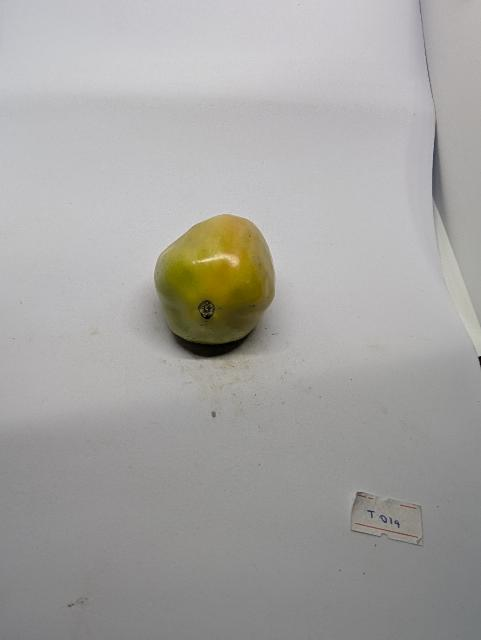breaker: (155, 214, 275, 344)
